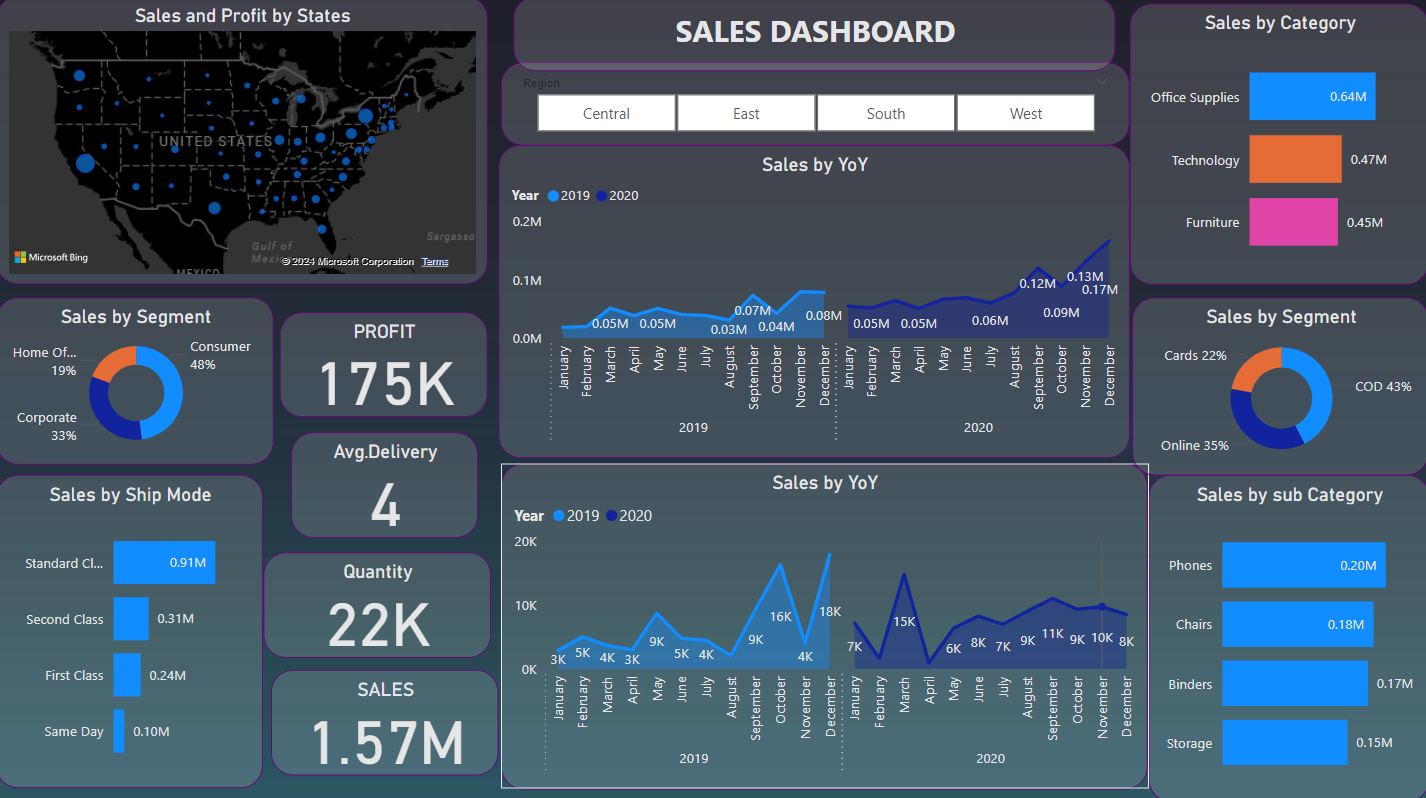

What the dashboard file says about the page in this screenshot:
{"tool":"powerbi","page":{"name":"Page 1","canvas":[1280,720],"ordinal":0},"visuals":[{"type":"clusteredBarChart","title":"Sales by Category","fields":{"Category":["SuperStore_Sales_Dataset.Category"],"Y":["Sum(SuperStore_Sales_Dataset.Sales)"]},"box":[1012.7,6.9,267.6,251.1],"z":0},{"type":"clusteredBarChart","title":"Sales by sub Category","fields":{"Y":["Sum(SuperStore_Sales_Dataset.Sales)"],"Category":["SuperStore_Sales_Dataset.Sub-Category"]},"box":[1041.5,440.5,238.8,279.9],"z":1000},{"type":"clusteredBarChart","title":"Sales by Ship Mode","fields":{"Y":["Sum(SuperStore_Sales_Dataset.Sales)"],"Category":["SuperStore_Sales_Dataset.Ship Mode"]},"box":[0,428.1,238.8,279.9],"z":2000},{"type":"stackedAreaChart","title":"Sales by YoY","fields":{"Y":["Sum(SuperStore_Sales_Dataset.Sales)"],"Category":["SuperStore_Sales_Dataset.Order Date.Variation.Date Hierarchy.Year","SuperStore_Sales_Dataset.Order Date.Variation.Date Hierarchy.Month"],"Series":["SuperStore_Sales_Dataset.Order Date.Variation.Date Hierarchy.Year"]},"box":[448.7,133.1,564,279.9],"z":3000},{"type":"stackedAreaChart","title":"Sales by YoY","fields":{"Category":["SuperStore_Sales_Dataset.Order Date.Variation.Date Hierarchy.Year","SuperStore_Sales_Dataset.Order Date.Variation.Date Hierarchy.Month"],"Series":["SuperStore_Sales_Dataset.Order Date.Variation.Date Hierarchy.Year"],"Y":["Sum(SuperStore_Sales_Dataset.Profit)"]},"box":[451.5,417.2,577.7,279.9],"z":4000},{"type":"map","title":"Sales and Profit by States","fields":{"Category":["SuperStore_Sales_Dataset.State"],"Size":["Sum(SuperStore_Sales_Dataset.Sales)"]},"box":[0,0,274.4,258],"z":5000},{"type":"donutChart","title":"Sales by Segment","fields":{"Category":["SuperStore_Sales_Dataset.Segment"],"Y":["Sum(SuperStore_Sales_Dataset.Sales)"]},"box":[0,269,248.4,149.6],"z":6000},{"type":"donutChart","title":"Sales by Segment","fields":{"Category":["SuperStore_Sales_Dataset.Payment Mode"],"Y":["Sum(SuperStore_Sales_Dataset.Sales)"]},"box":[1015.4,278.6,264.8,149.6],"z":7000},{"type":"slicer","fields":{"Values":["SuperStore_Sales_Dataset.Region"]},"box":[415,67.5,450,70],"z":8000},{"type":"textbox","box":[558.8,0,201.2,67.5],"z":9000},{"type":"card","title":"SALES","fields":{"Values":["Sum(SuperStore_Sales_Dataset.Sales)"]},"box":[245.6,602.4,203.1,94.7],"z":10000},{"type":"card","title":"Quantity","fields":{"Values":["Sum(SuperStore_Sales_Dataset.Quantity)"]},"box":[248.4,496.7,203.1,94.7],"z":11000},{"type":"card","title":"PROFIT","fields":{"Values":["Sum(SuperStore_Sales_Dataset.Profit)"]},"box":[253.9,296.4,185.2,93.3],"z":12000},{"type":"card","title":"Avg.Delivery","fields":{"Values":["Avg(SuperStore_Sales_Dataset.Avg Delivery)"]},"box":[253.9,402.1,167.4,94.7],"z":13000}]}

Visuals, with their boxes in screenshot pixels (x1, y1, x2, y2), scaled from the page's 1280x720 canvas onto the 1426x798 screenshot:
"Sales by Category" clusteredBarChart: 1128, 8, 1425, 286
"Sales by sub Category" clusteredBarChart: 1160, 488, 1425, 797
"Sales by Ship Mode" clusteredBarChart: 0, 474, 266, 785
"Sales by YoY" stackedAreaChart: 500, 148, 1128, 458
"Sales by YoY" stackedAreaChart: 503, 462, 1147, 773
"Sales and Profit by States" map: 0, 0, 306, 286
"Sales by Segment" donutChart: 0, 298, 277, 464
"Sales by Segment" donutChart: 1131, 309, 1425, 475
slicer - SuperStore_Sales_Dataset.Region: 462, 75, 964, 152
textbox: 623, 0, 847, 75
"SALES" card: 274, 668, 500, 773
"Quantity" card: 277, 551, 503, 655
"PROFIT" card: 283, 329, 489, 432
"Avg.Delivery" card: 283, 446, 469, 551
